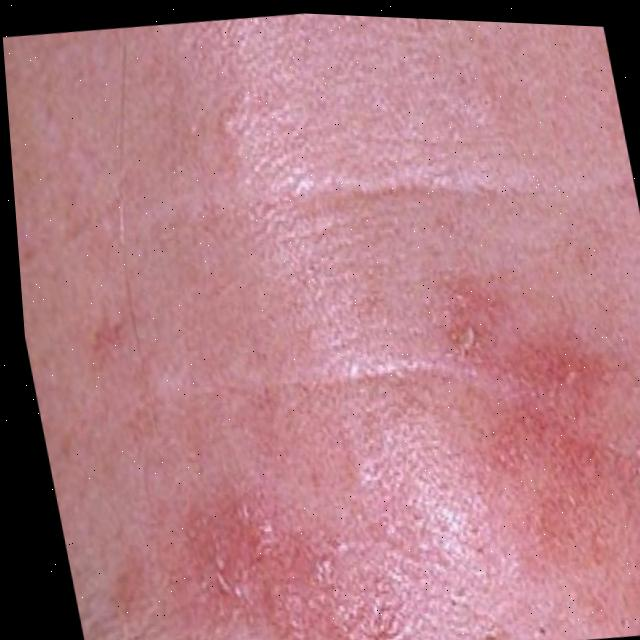Rosacea: (165, 305, 640, 640)
